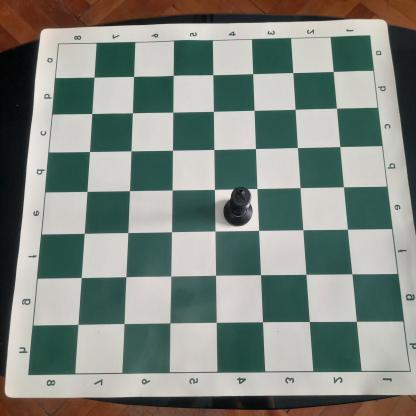black-king: (223, 186, 254, 227)
